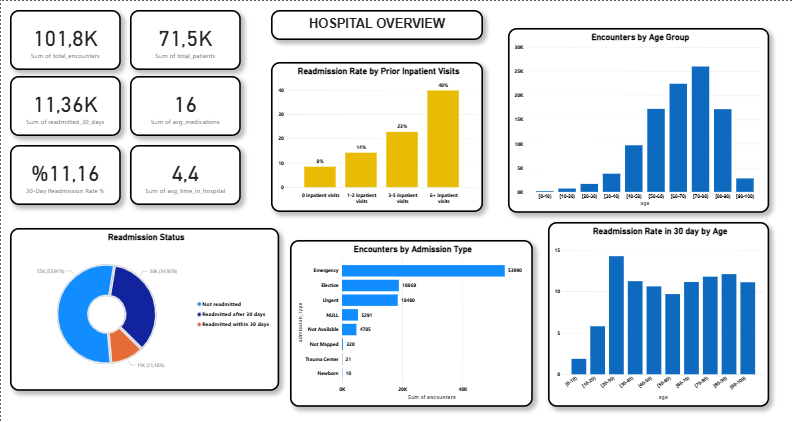

The page's visual inventory and layout, read from the dashboard file:
{"tool":"powerbi","page":{"name":"Hospital Overview","canvas":[1980,1056],"ordinal":0},"visuals":[{"type":"card","fields":{"Values":["Sum(public vw_readmission_kpi_overview.total_encounters)"]},"box":[21.7,21.7,276.7,150],"z":0},{"type":"card","fields":{"Values":["Sum(public vw_readmission_kpi_overview.total_patients)"]},"box":[321.7,21.7,276.7,150],"z":1},{"type":"card","fields":{"Values":["Sum(public vw_readmission_kpi_overview.readmitted_30_days)"]},"box":[21.7,186.7,276.7,150],"z":2},{"type":"card","fields":{"Values":["public vw_readmission_kpi_overview.30-Day Readmission Rate %"]},"box":[21.7,360,276.7,150],"z":3},{"type":"card","fields":{"Values":["Sum(public vw_readmission_kpi_overview.avg_time_in_hospital)"]},"box":[321.7,360,276.7,150],"z":4},{"type":"card","fields":{"Values":["Sum(public vw_readmission_kpi_overview.avg_medications)"]},"box":[321.7,186.7,276.7,150],"z":5},{"type":"donutChart","title":"Readmission Status","fields":{"Category":["public vw_readmission_status_distribution.readmission_status"],"Y":["Sum(public vw_readmission_status_distribution.encounters)"]},"box":[21.7,568.3,673.3,406.7],"z":6},{"type":"clusteredColumnChart","title":"Readmission Rate in 30 day by Age","fields":{"Category":["public vw_readmission_by_age.age"],"Y":["Sum(public vw_readmission_by_age.readmission_30_day_rate)"]},"box":[1366.7,551.7,553.3,461.7],"z":7},{"type":"barChart","title":"Encounters by Admission Type","fields":{"Category":["public vw_readmission_by_admission_type.admission_type"],"Y":["Sum(public vw_readmission_by_admission_type.encounters)"]},"box":[723.3,596.7,606.7,416.7],"z":8},{"type":"clusteredColumnChart","title":"Readmission Rate by Prior Inpatient Visits","fields":{"Category":["public vw_readmission_by_prior_visits.inpatient_visit_group"],"Y":["Avg(public vw_readmission_by_prior_visits.readmission_30_day_rate)"]},"box":[675,153.3,530,375],"z":9},{"type":"clusteredColumnChart","title":"Encounters by Age Group","fields":{"Category":["public vw_readmission_by_age.age"],"Y":["Sum(public vw_readmission_by_age.encounters)"]},"box":[1266.7,66.7,653.3,461.7],"z":10},{"type":"textbox","box":[675,21.7,530,75],"z":11}]}

Visuals, with their boxes in screenshot pixels (x1, y1, x2, y2), scaled from the page's 1980x1056 canvas onto the 792x422 screenshot:
card - Sum(public vw_readmission_kpi_overview.total_encounters): Rect(9, 9, 119, 69)
card - Sum(public vw_readmission_kpi_overview.total_patients): Rect(129, 9, 239, 69)
card - Sum(public vw_readmission_kpi_overview.readmitted_30_days): Rect(9, 75, 119, 135)
card - public vw_readmission_kpi_overview.30-Day Readmission Rate %: Rect(9, 144, 119, 204)
card - Sum(public vw_readmission_kpi_overview.avg_time_in_hospital): Rect(129, 144, 239, 204)
card - Sum(public vw_readmission_kpi_overview.avg_medications): Rect(129, 75, 239, 135)
"Readmission Status" donutChart: Rect(9, 227, 278, 390)
"Readmission Rate in 30 day by Age" clusteredColumnChart: Rect(547, 220, 768, 405)
"Encounters by Admission Type" barChart: Rect(289, 238, 532, 405)
"Readmission Rate by Prior Inpatient Visits" clusteredColumnChart: Rect(270, 61, 482, 211)
"Encounters by Age Group" clusteredColumnChart: Rect(507, 27, 768, 211)
textbox: Rect(270, 9, 482, 39)
